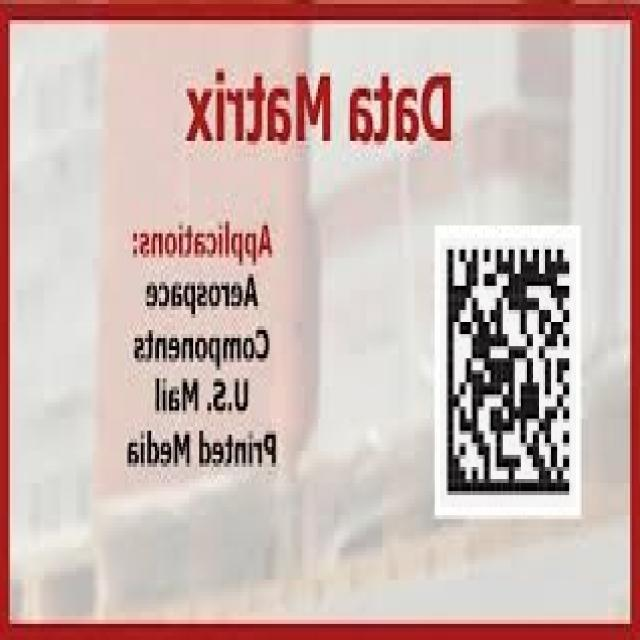Data-Matrix: (440, 238, 576, 507)
